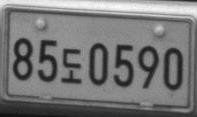0: (162, 46, 183, 90), (88, 42, 108, 86)
5: (37, 39, 58, 82), (113, 44, 134, 87)
8: (12, 36, 33, 80)
9: (137, 44, 159, 88)
도: (61, 48, 82, 83)
